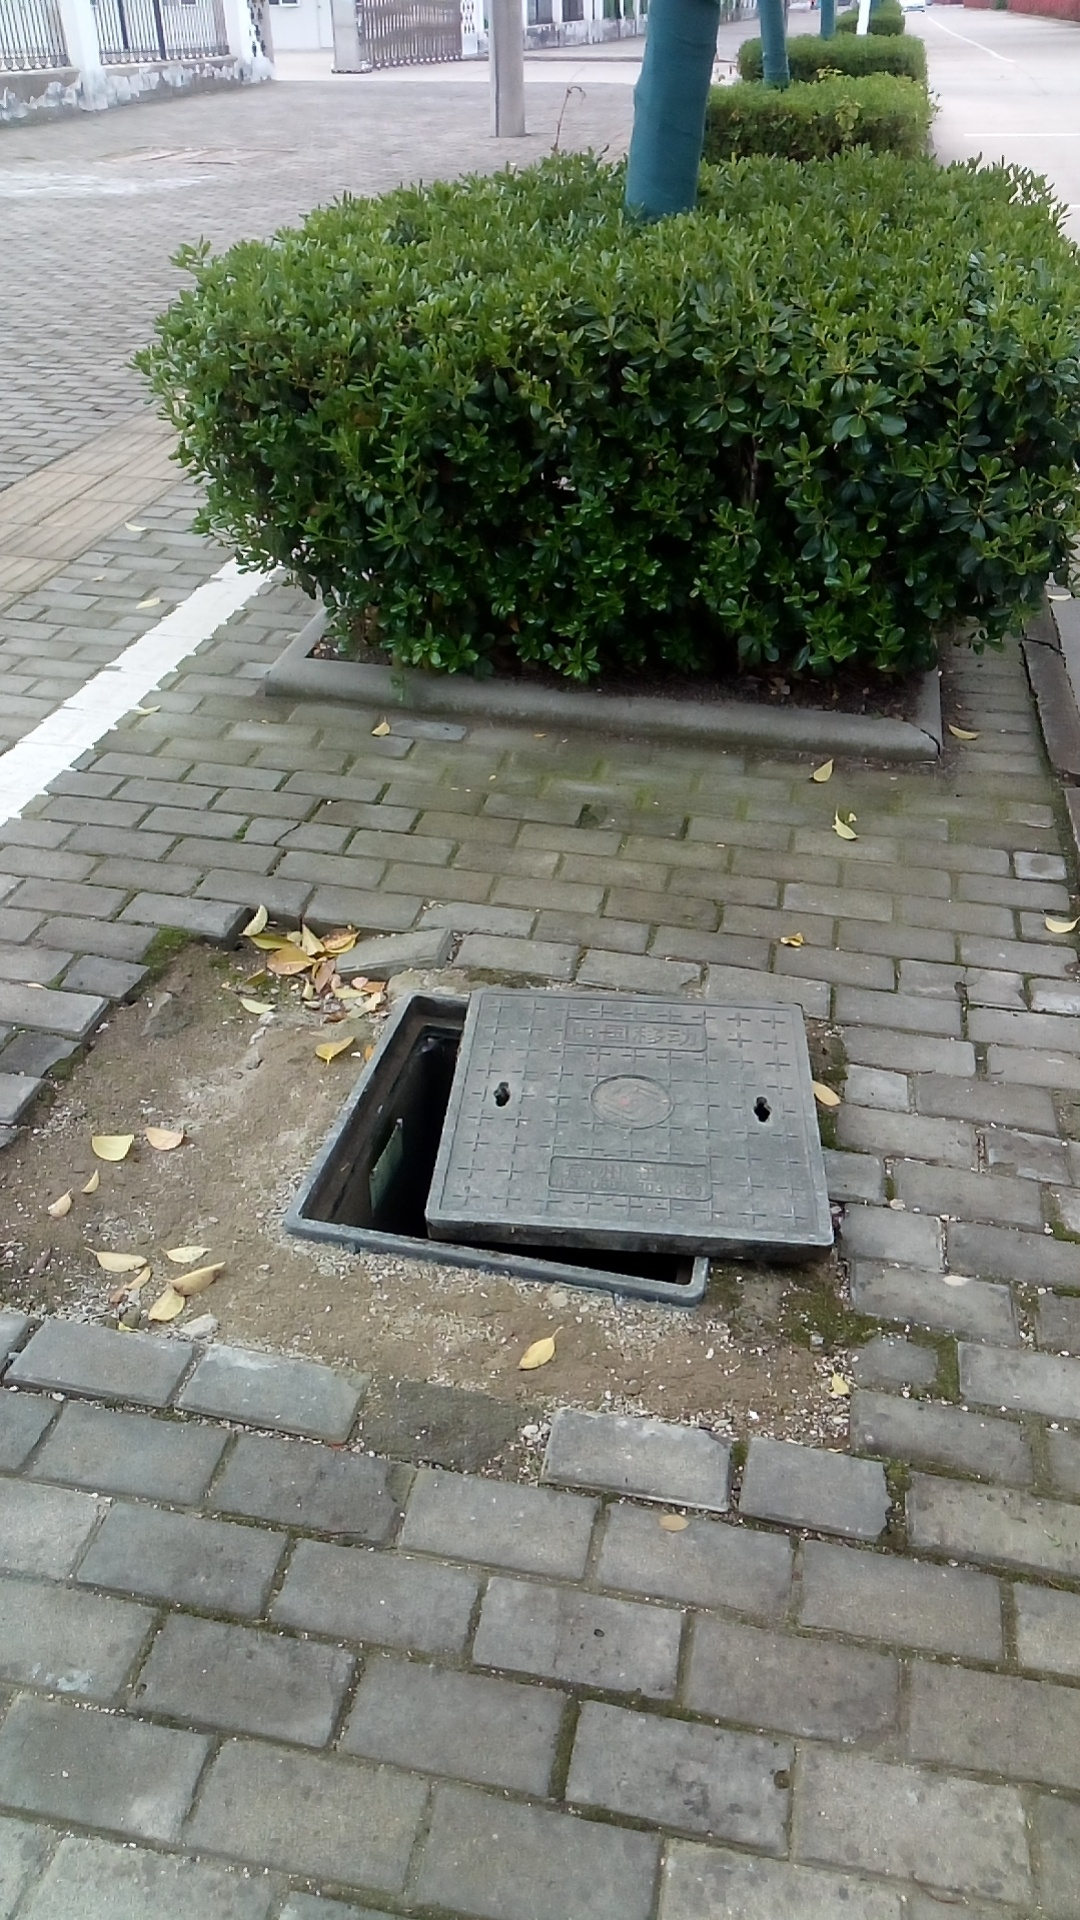uncovered: (286, 977, 841, 1298)
